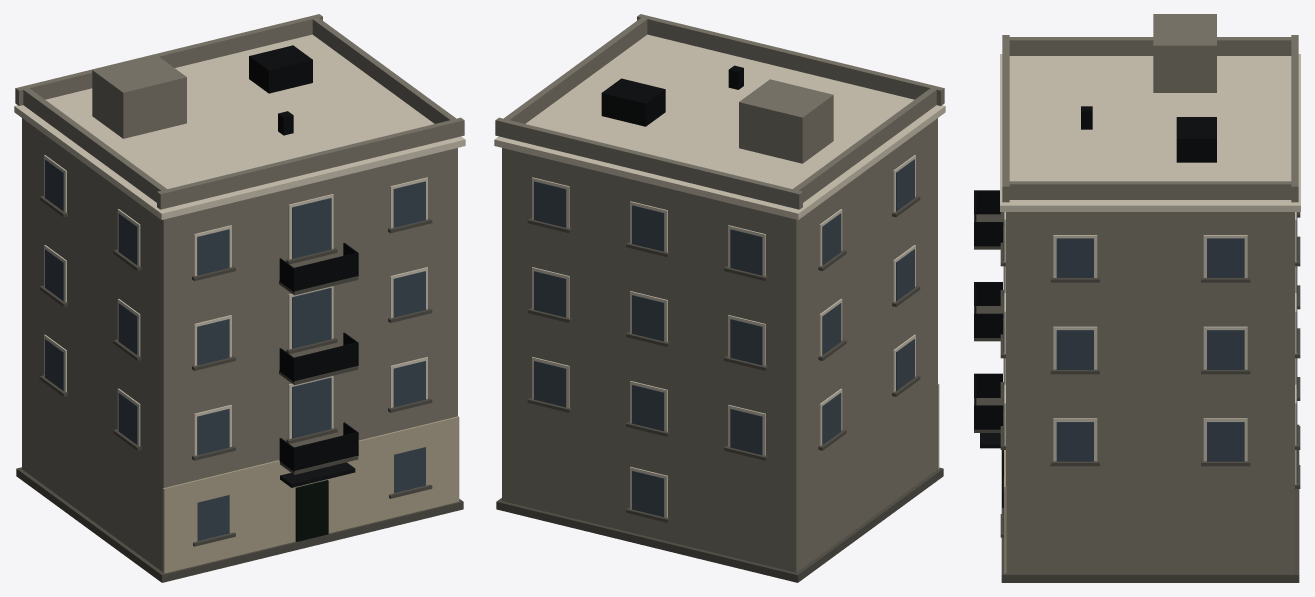
Rendered from building_flat.glb.
3 renders of one model, left to right at view 1: azimuth 30°, elevation 25°; view 2: azimuth 150°, elevation 25°; view 3: azimuth 270°, elevation 25°, orthographic. The views are drawn at different scales.
Parts seen in each view (by area): view 1: flat; view 2: flat; view 3: flat.
Part boxes in pixels (left/top/right/bottom): flat: left=14, top=14, right=465, bottom=582; flat: left=494, top=14, right=945, bottom=582; flat: left=974, top=14, right=1300, bottom=582.
Size of the model in its own units: 12.4 by 16.65 by 11.3.
2 materials, 1 textured.
